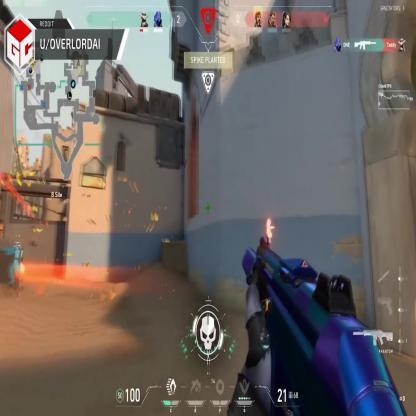enemy: (266, 216, 274, 246)
enemy_head: (267, 219, 271, 226)
